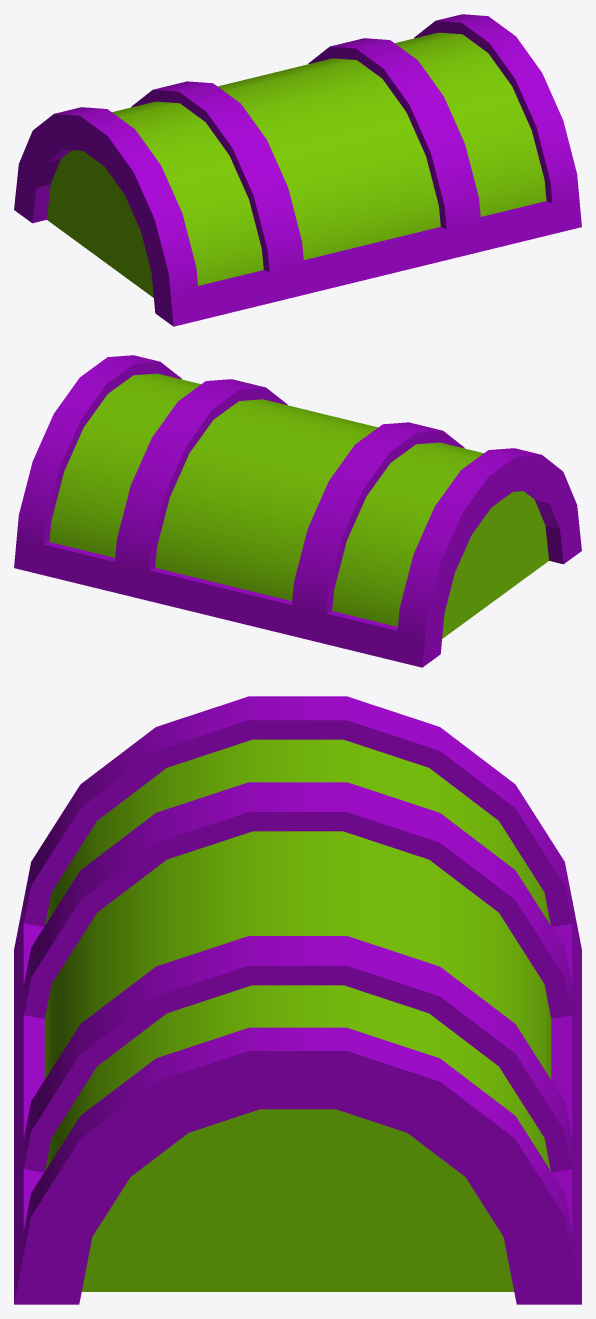
File: box_upper.fbx
3 renders of one model, top to bottom at view 1: azimuth 30°, elevation 25°; view 2: azimuth 150°, elevation 25°; view 3: azimuth 270°, elevation 25°, orthographic. The views are drawn at different scales.
Visible parts, largest first — view 1: Cylinder007; view 2: Cylinder007; view 3: Cylinder007.
Boxes of the visible parts, bbox=[...] form: Cylinder007: bbox=[14, 14, 581, 326]; Cylinder007: bbox=[14, 355, 581, 667]; Cylinder007: bbox=[14, 696, 581, 1304].
Bounding box in the file's own units: 102 × 34.12 × 69.29.
